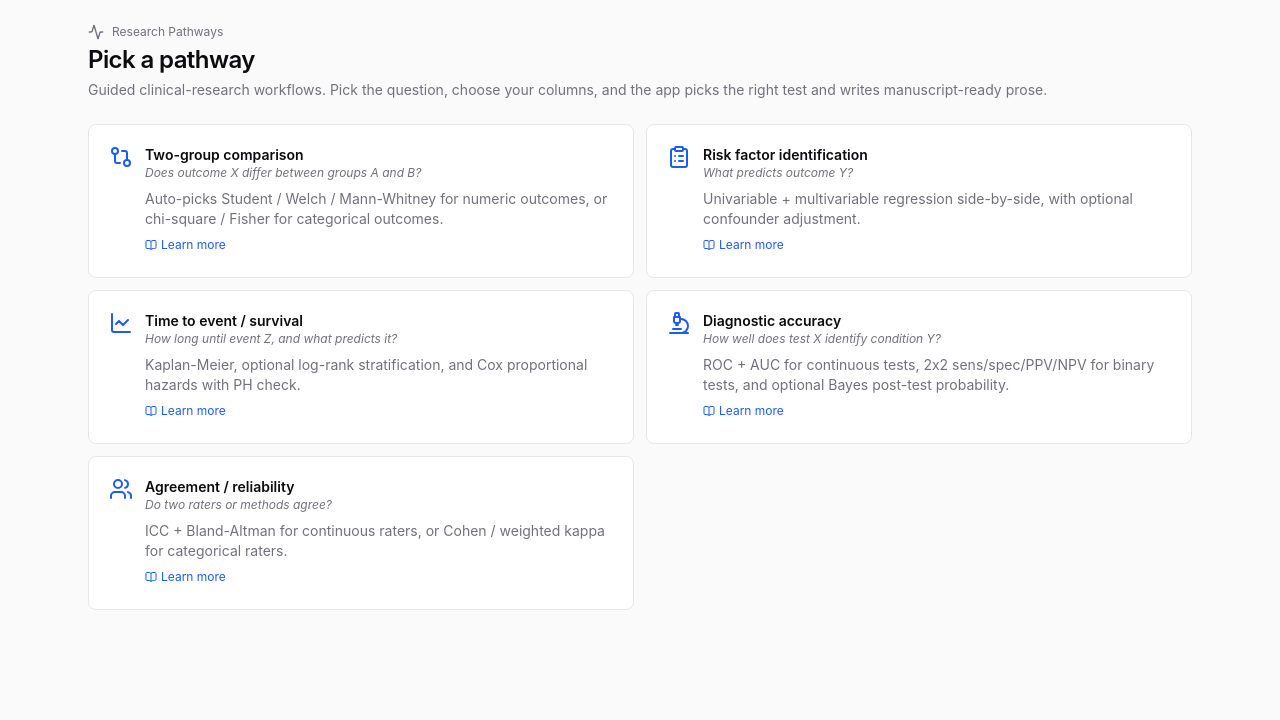
Test: PathwaysPage › navigates into the two-group wizard on card click
The width and height of the screenshot is (1280, 720).
Click the button with test id "pathway-card-two-group" at (361, 201), box [88, 124, 634, 278]
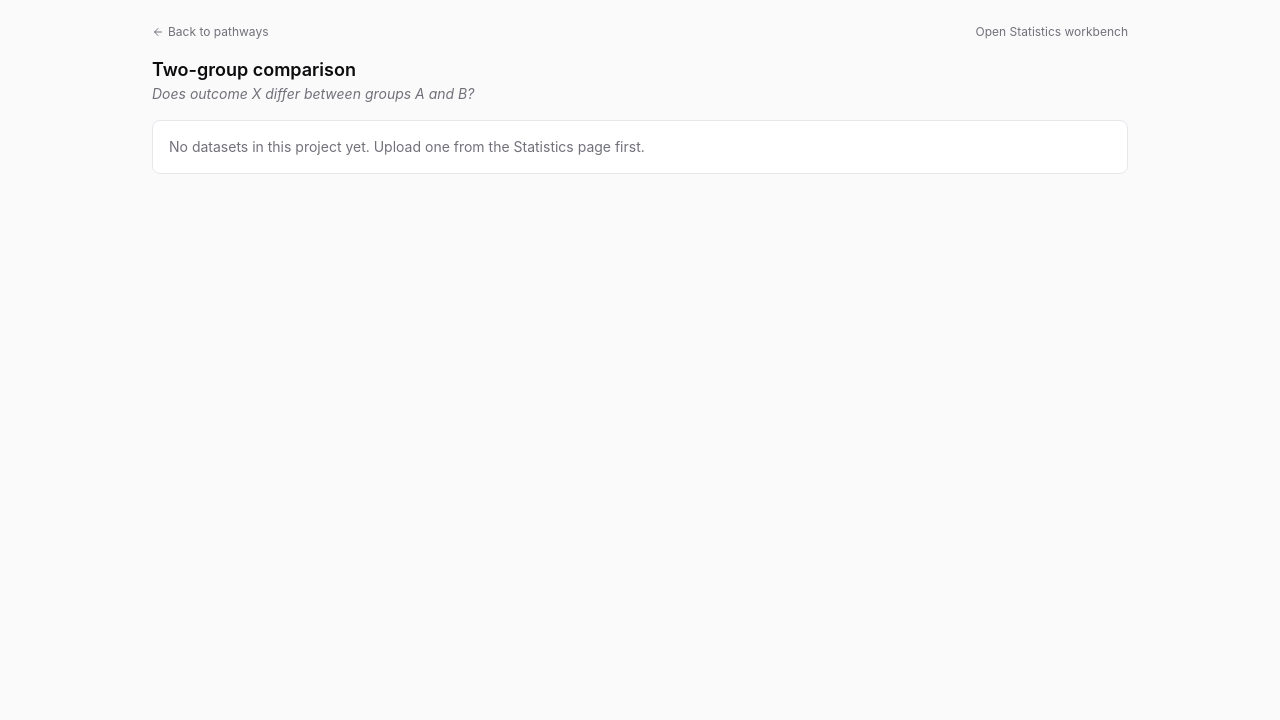
Expected: the heading "Two-group comparison" is shown, [152, 59, 356, 80]
Expected: the element with test id "pathway-wizard-two-group" is shown, [128, 0, 1152, 198]
